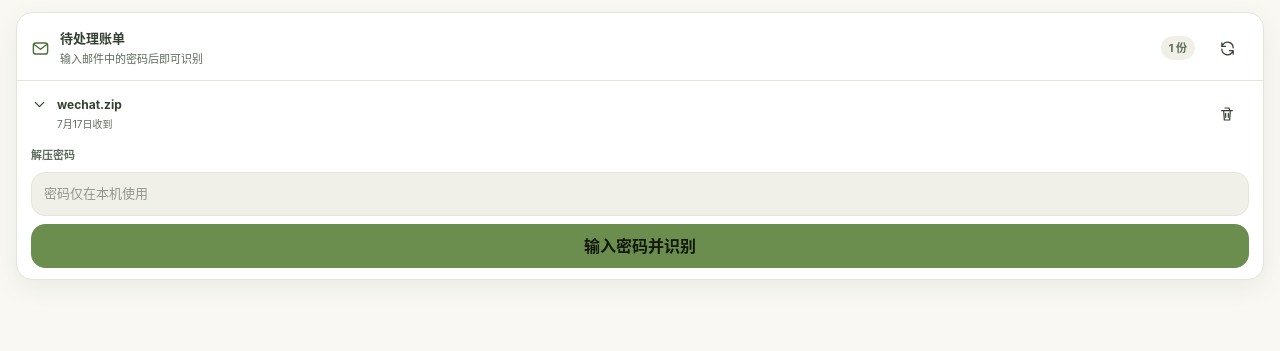
PendingBillsCard › allows immediate retry after a wrong password
Type "wrong" into the password field named "wechat.zip 解压密码" at (640, 194), box x1=31 y1=172 x2=1249 y2=216
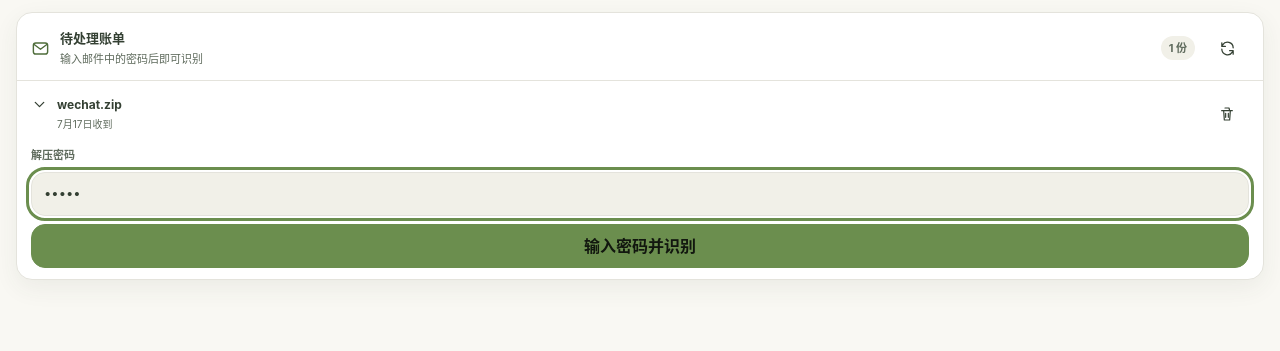
Click the button "输入密码并识别" at (640, 246), box x1=31 y1=224 x2=1249 y2=268
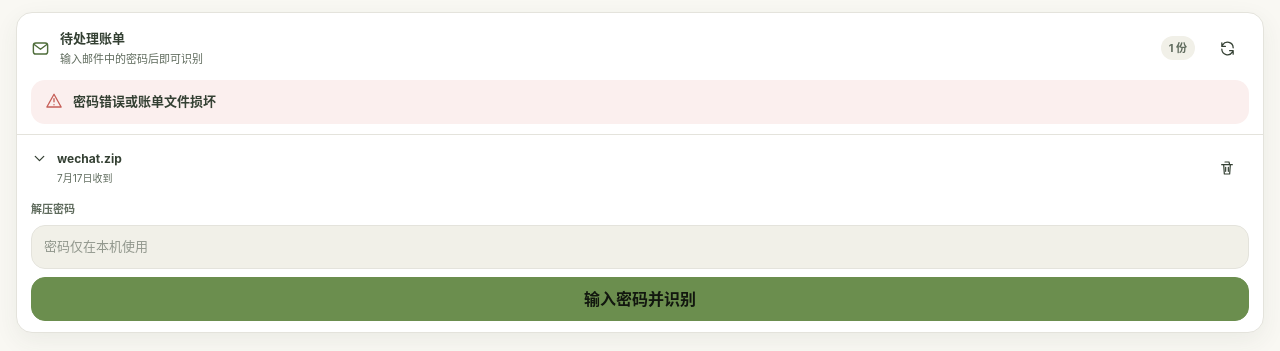
Expected: the button "输入密码并识别" is enabled, x1=31 y1=277 x2=1249 y2=321
Expected: the message reads "密码错误或账单文件损坏", x1=73 y1=93 x2=216 y2=109
